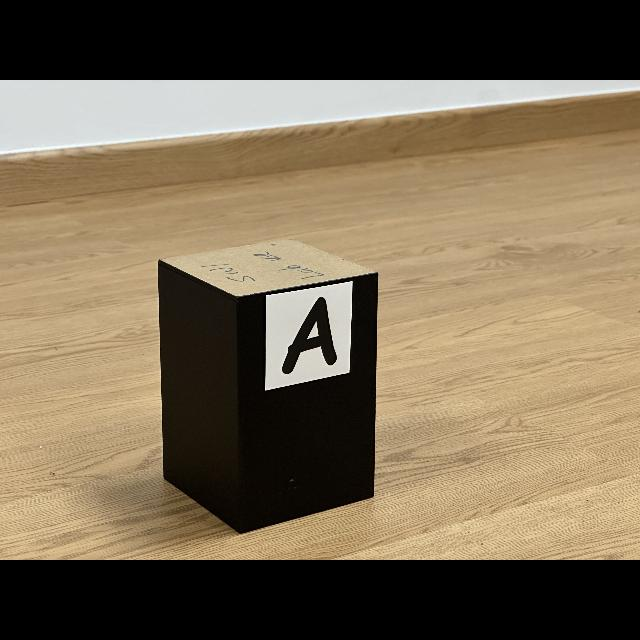A: (282, 298, 338, 374)
